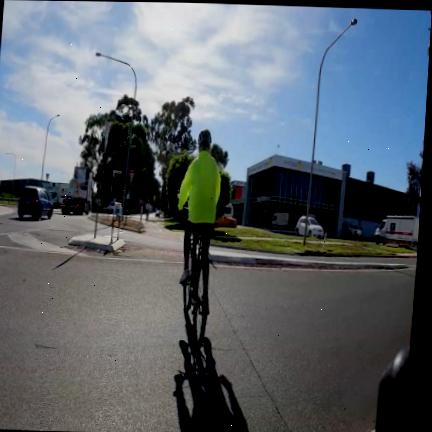Bike_Lane: (142, 216, 183, 240), (132, 214, 139, 220)
